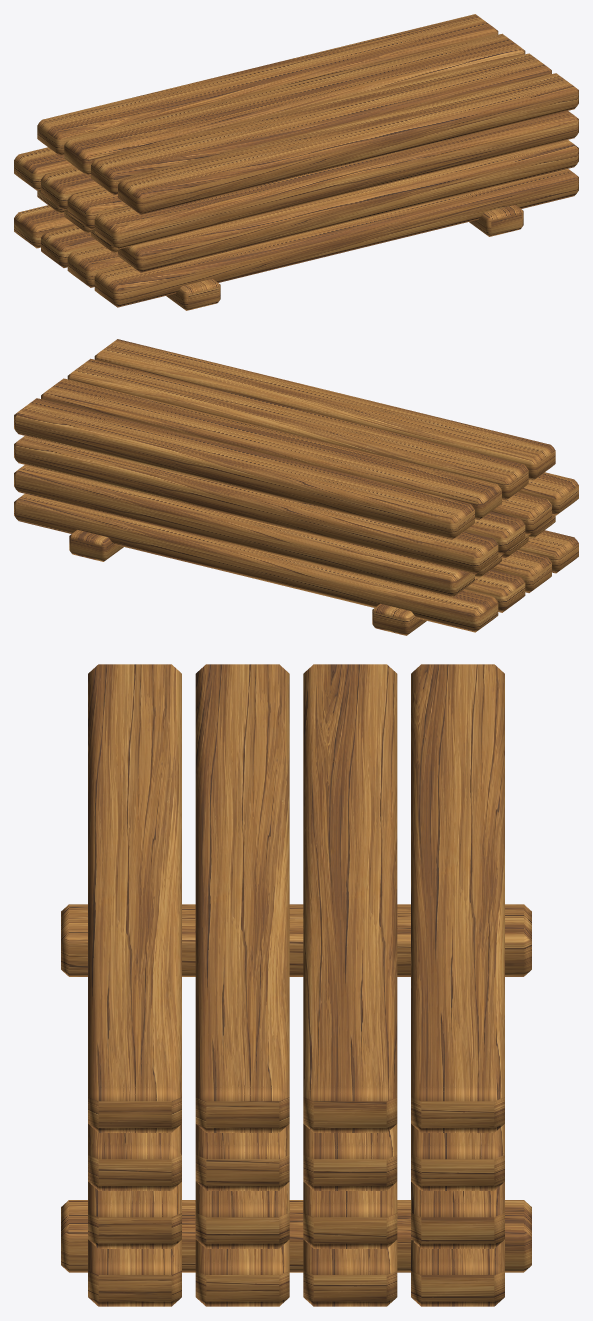
Rendered from 20_Tablones_Apilados.obj.
The picture shows the model from 3 angles, top to bottom: view 1: azimuth 30°, elevation 25°; view 2: azimuth 150°, elevation 25°; view 3: azimuth 270°, elevation 25°; orthographic projection. The views are drawn at different scales.
Visible parts, largest first — view 1: 20_Tablones_Apilados_Wood; view 2: 20_Tablones_Apilados_Wood; view 3: 20_Tablones_Apilados_Wood.
Part boxes in pixels (x1,y1,x2,y2): 20_Tablones_Apilados_Wood: [14, 14, 578, 310]; 20_Tablones_Apilados_Wood: [14, 339, 578, 635]; 20_Tablones_Apilados_Wood: [61, 664, 531, 1306].
Size of the model in its own units: 1.6 by 0.4025 by 0.7.
1 material, 1 textured.
